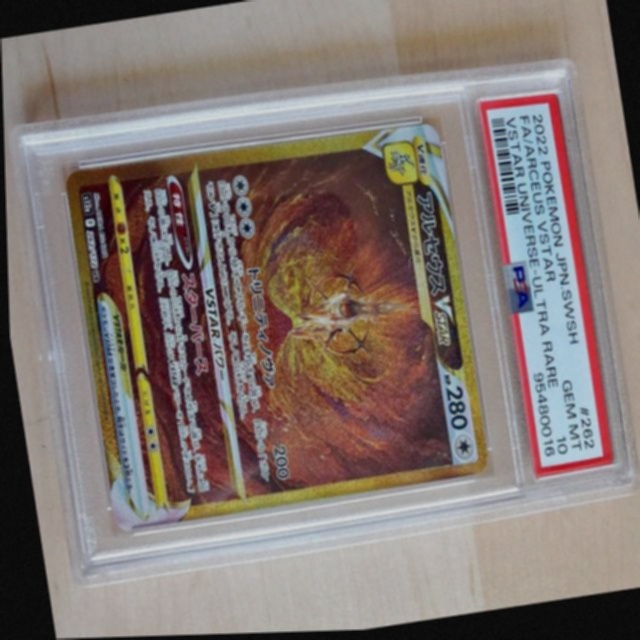card: (64, 125, 486, 531)
